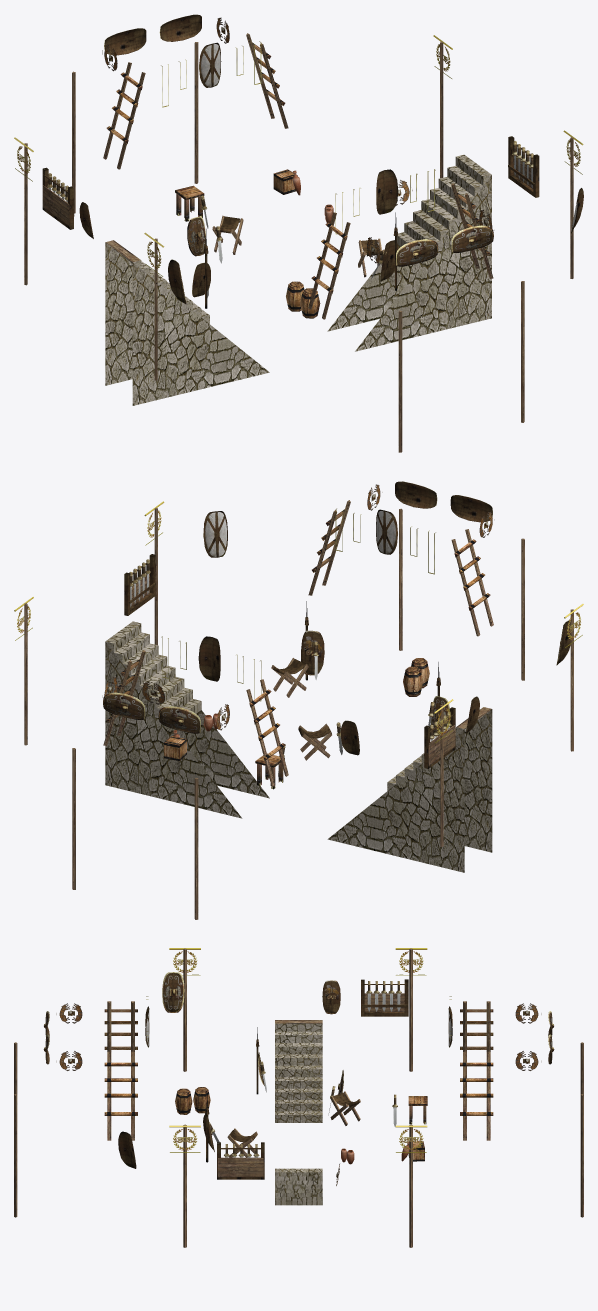
Rendered from rome_camp_struct2.dae.
The picture shows the model from 3 angles, top to bottom: view 1: azimuth 30°, elevation 25°; view 2: azimuth 150°, elevation 25°; view 3: azimuth 270°, elevation 25°; orthographic projection. The views are drawn at different scales.
Visible parts, largest first — view 1: rome_sb_struct2; view 2: rome_sb_struct2; view 3: rome_sb_struct2.
Part boxes in pixels (x1,y1,x2,y2): rome_sb_struct2: [14, 14, 583, 452]; rome_sb_struct2: [14, 481, 583, 919]; rome_sb_struct2: [14, 948, 583, 1247].
Size of the model in its own units: 30.35 by 16.91 by 41.01.
